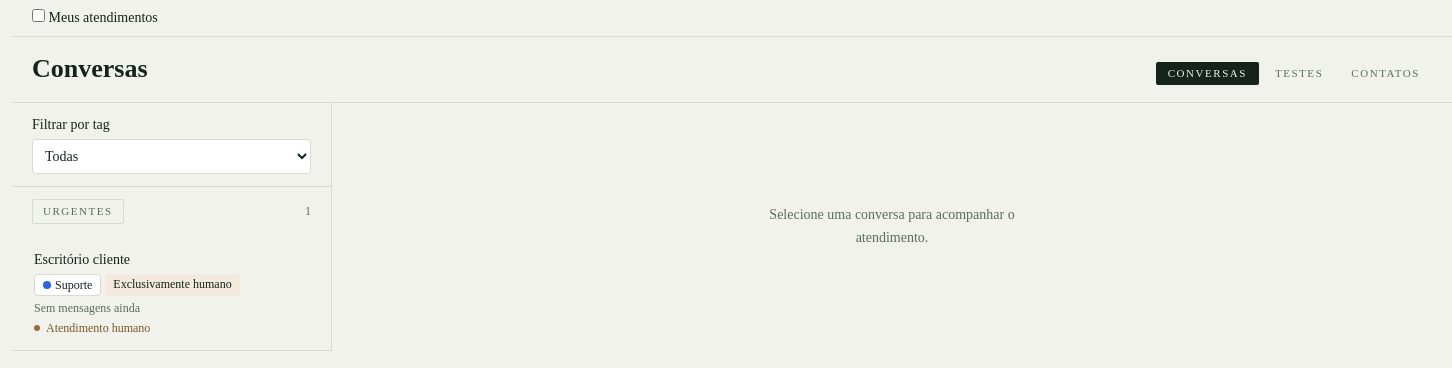
Test: filtra por tag no servidor e permite voltar para todas
This screenshot has width=1452, height=368.
Select "Suporte" in the dropdown at (172, 156), box x1=32 y1=138 x2=311 y2=174
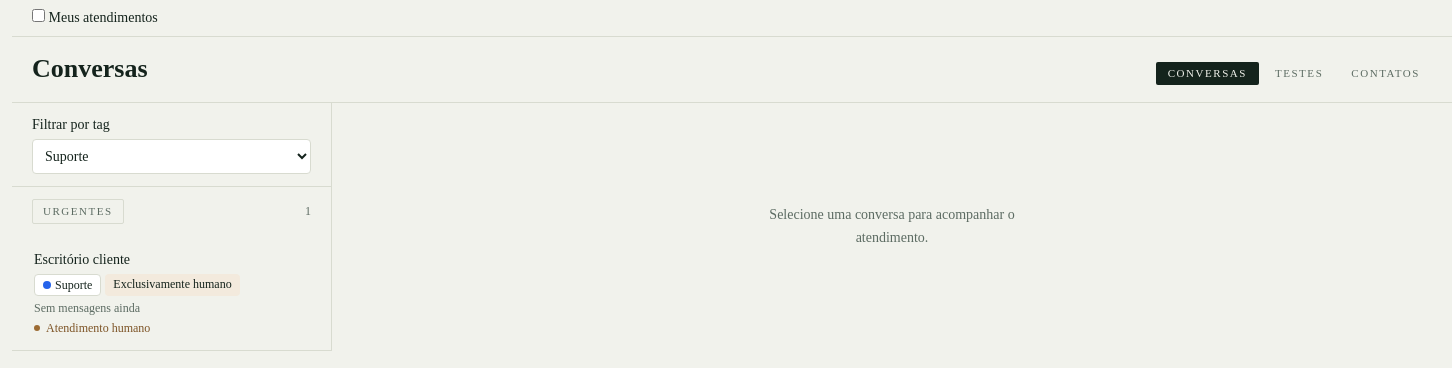
Expected: the text "Escritório cliente" is shown, x1=34 y1=250 x2=130 y2=270
Select "Sem tag" in the dropdown at (172, 156), box x1=32 y1=138 x2=311 y2=174
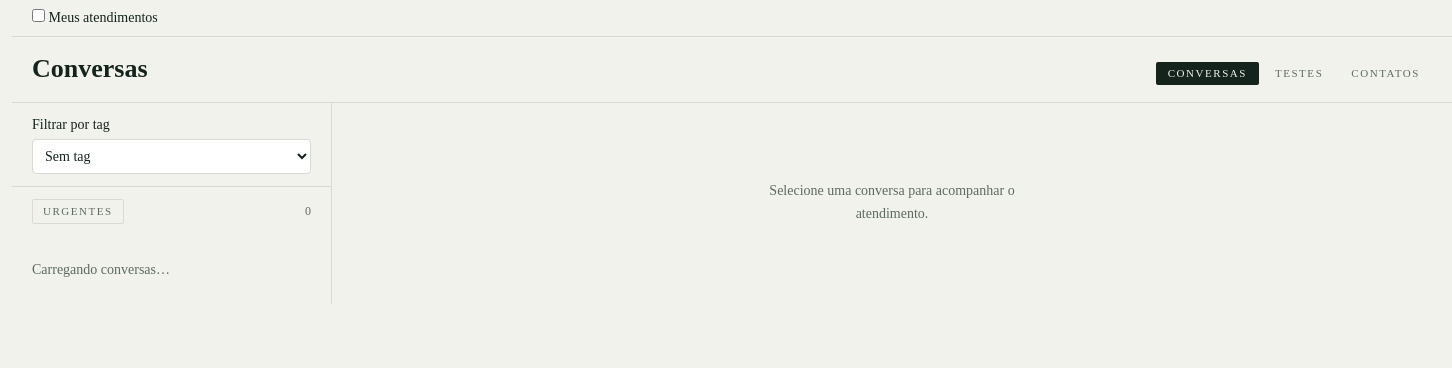
Now the button "Escritório cliente" is gone
Select "Todas" in the dropdown at (172, 156), box x1=32 y1=138 x2=311 y2=174
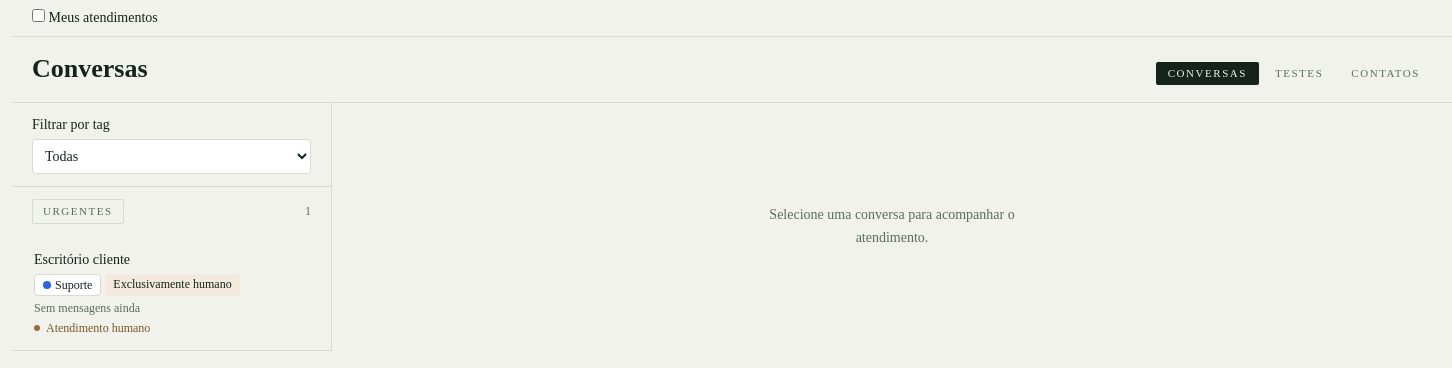
Now the text "Escritório cliente" is shown, box x1=34 y1=250 x2=130 y2=270
